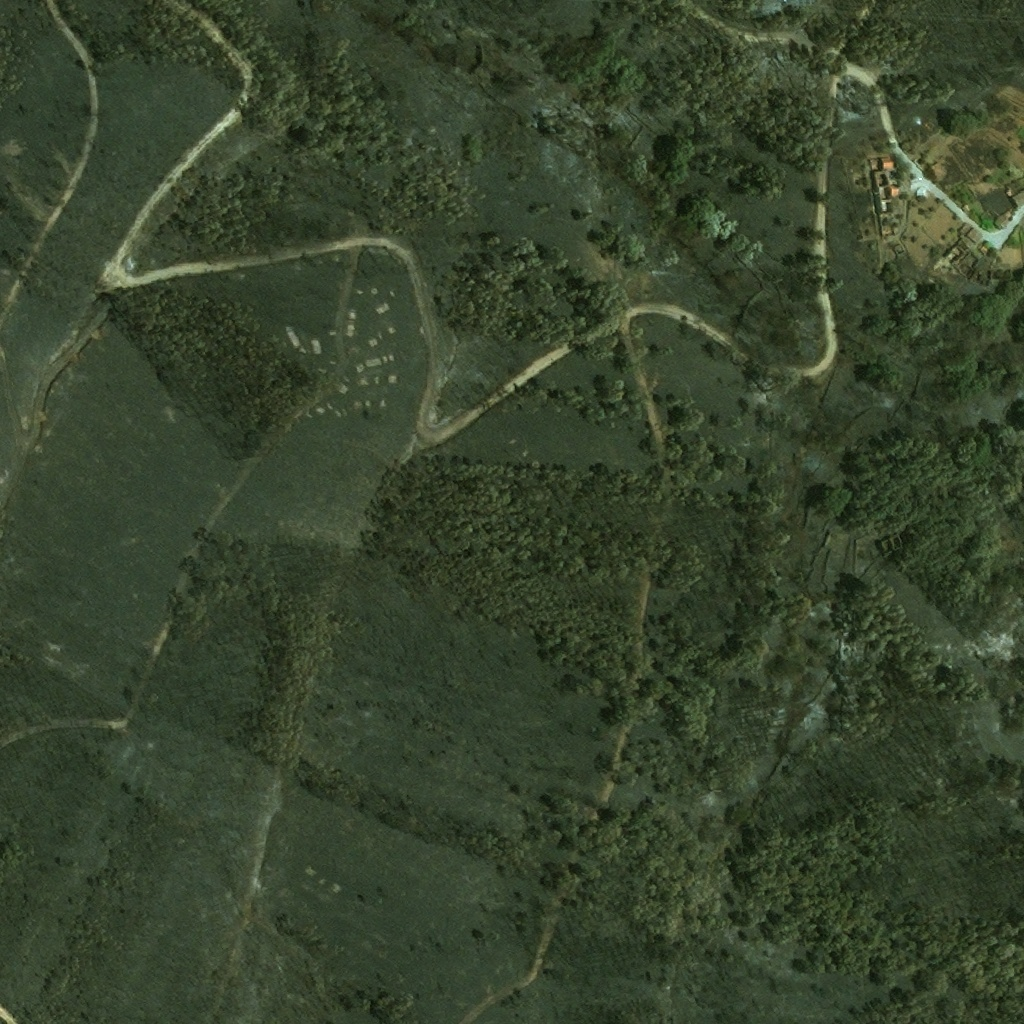0 no-damage: (964, 225, 984, 244), (996, 213, 1010, 228)
3 destroyed: (872, 157, 901, 217), (871, 159, 881, 170)
4 un-classified: (1010, 190, 1023, 208)
